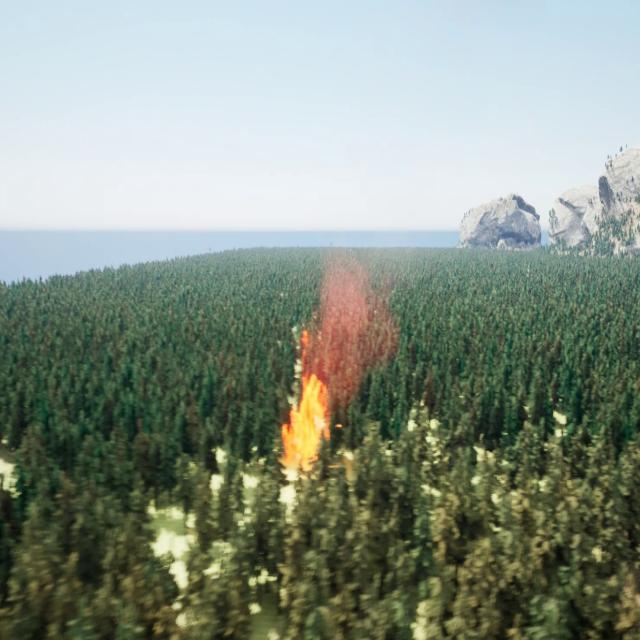fire: (284, 370, 330, 482)
smoke: (302, 245, 401, 406)
